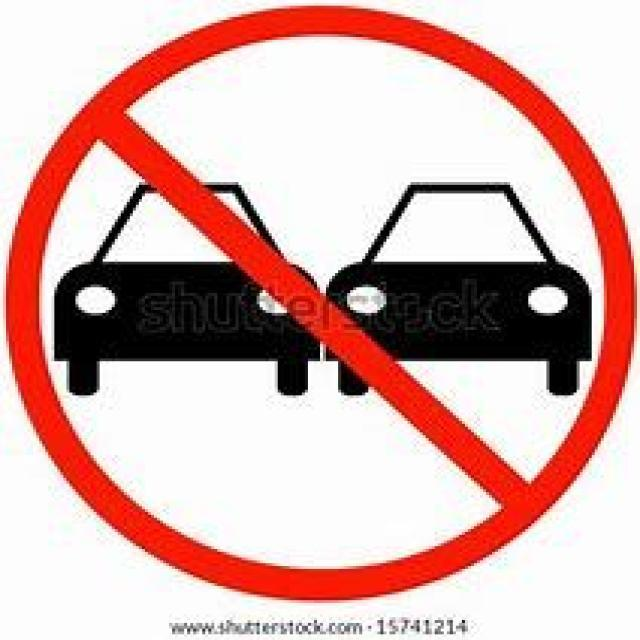overtaking prohibited: (18, 18, 611, 604)
